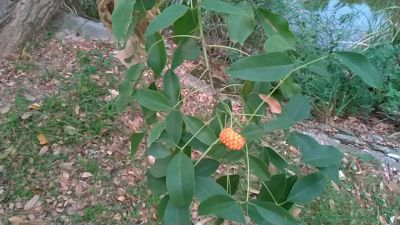eggs: (217, 126, 249, 156)
